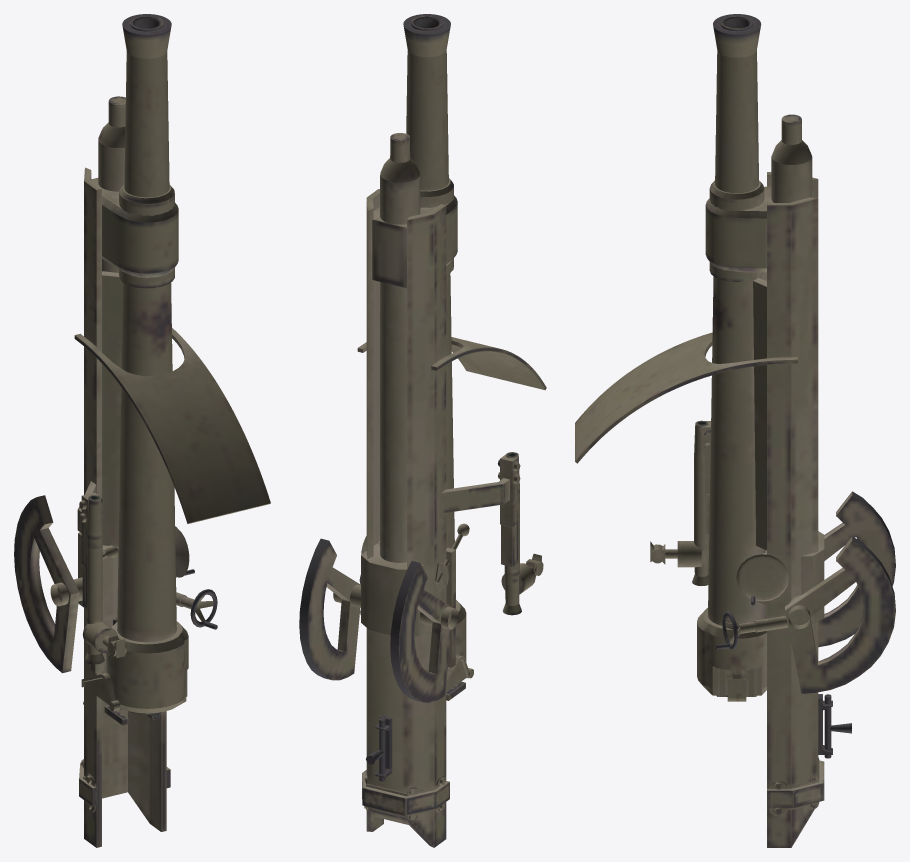
Rendered from Gun_02.glb.
3 renders of one model, left to right at view 1: azimuth 30°, elevation 25°; view 2: azimuth 150°, elevation 25°; view 3: azimuth 270°, elevation 25°, orthographic. The views are drawn at different scales.
Parts seen in each view (by area): view 1: set_0_group_0; view 2: set_0_group_0; view 3: set_0_group_0.
Part boxes in pixels (x1,y1,x2,y2): set_0_group_0: (14,14,270,847); set_0_group_0: (299,14,546,847); set_0_group_0: (575,14,895,847).
Size of the model in its own units: 0.5521 by 2.86 by 1.03.
Materials: 1 (1 with a texture image).
